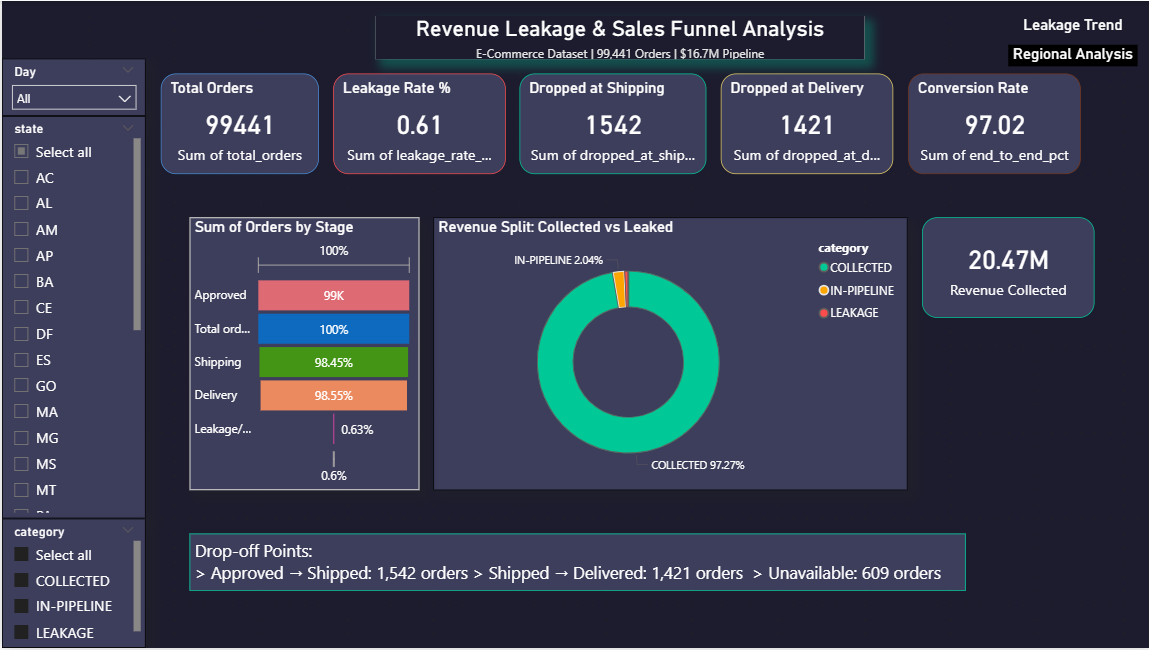

What the dashboard file says about the page in this screenshot:
{"tool":"powerbi","page":{"name":"Executive Summary","canvas":[1280,720],"ordinal":0},"visuals":[{"type":"card","title":"Conversion Rate","fields":{"Values":["Sum(funnel_stages_202604131959.end_to_end_pct)"]},"box":[1008,112,208,112],"z":0},{"type":"card","title":"Total Orders","fields":{"Values":["Sum(funnel_stages_202604131959.total_orders)"]},"box":[176,112,176,112],"z":1000},{"type":"card","title":"Leakage Rate %","fields":{"Values":["Sum(funnel_stages_202604131959.leakage_rate_pct)"]},"box":[368,112,192,112],"z":2000},{"type":"card","title":"Dropped at Shipping","fields":{"Values":["Sum(funnel_stages_202604131959.dropped_at_shipping)"]},"box":[576,112,208,112],"z":3000},{"type":"card","title":"Dropped at Delivery","fields":{"Values":["Sum(funnel_stages_202604131959.dropped_at_delivery)"]},"box":[800,112,192,112],"z":4000},{"type":"textbox","box":[208,576,1008,112],"z":5000},{"type":"donutChart","title":"Revenue Split: Collected vs Leaked","fields":{"Category":["revenue_summary_totals_202604132000.category"],"Y":["Sum(revenue_summary_totals_202604132000.revenue_potential)"]},"box":[480,240,528,304],"z":6000},{"type":"textbox","title":"Revenue Leakage & Sales Funnel Analysis","box":[432,16,544,48],"z":7000},{"type":"actionButton","title":"Regional Analysis","box":[1104,48,160,32],"z":8000},{"type":"actionButton","title":"Leakage Trend","box":[1120,16,128,32],"z":9000},{"type":"card","fields":{"Values":["Sum(revenue_summary_totals_202604132000.revenue_collected)"]},"box":[1024,240,192,304],"z":10000},{"type":"funnel","fields":{"Y":["Sum(funnel_visual.Orders)"],"Category":["funnel_visual.Stage"]},"box":[208,240,256,304],"z":11000},{"type":"slicer","fields":{"Values":["orders_payments_202604132001.month.Variation.Date Hierarchy.Day"]},"box":[0,64,160,64],"z":12000},{"type":"slicer","fields":{"Values":["orders_customers_payments_202604132146.state"]},"box":[0,128,160,448],"z":13000},{"type":"slicer","fields":{"Values":["revenue_summary_totals_202604132000.category"]},"box":[0,576,160,144],"z":14000},{"type":"actionButton","title":"Action Centre","box":[1120,80,112,16],"z":15000}]}

Visuals, with their boxes in screenshot pixels (x1, y1, x2, y2), scaled from the page's 1280x720 canvas onto the 1149x650 screenshot:
"Conversion Rate" card: bbox=(905, 101, 1092, 202)
"Total Orders" card: bbox=(158, 101, 316, 202)
"Leakage Rate %" card: bbox=(330, 101, 503, 202)
"Dropped at Shipping" card: bbox=(517, 101, 704, 202)
"Dropped at Delivery" card: bbox=(718, 101, 890, 202)
textbox: bbox=(187, 520, 1092, 621)
"Revenue Split: Collected vs Leaked" donutChart: bbox=(431, 217, 905, 491)
"Revenue Leakage & Sales Funnel Analysis" textbox: bbox=(388, 14, 876, 58)
"Regional Analysis" actionButton: bbox=(991, 43, 1135, 72)
"Leakage Trend" actionButton: bbox=(1005, 14, 1120, 43)
card - Sum(revenue_summary_totals_202604132000.revenue_collected): bbox=(919, 217, 1092, 491)
funnel - Sum(funnel_visual.Orders) x funnel_visual.Stage: bbox=(187, 217, 417, 491)
slicer - orders_payments_202604132001.month.Variation.Date Hierarchy.Day: bbox=(0, 58, 144, 116)
slicer - orders_customers_payments_202604132146.state: bbox=(0, 116, 144, 520)
slicer - revenue_summary_totals_202604132000.category: bbox=(0, 520, 144, 649)
"Action Centre" actionButton: bbox=(1005, 72, 1106, 87)
